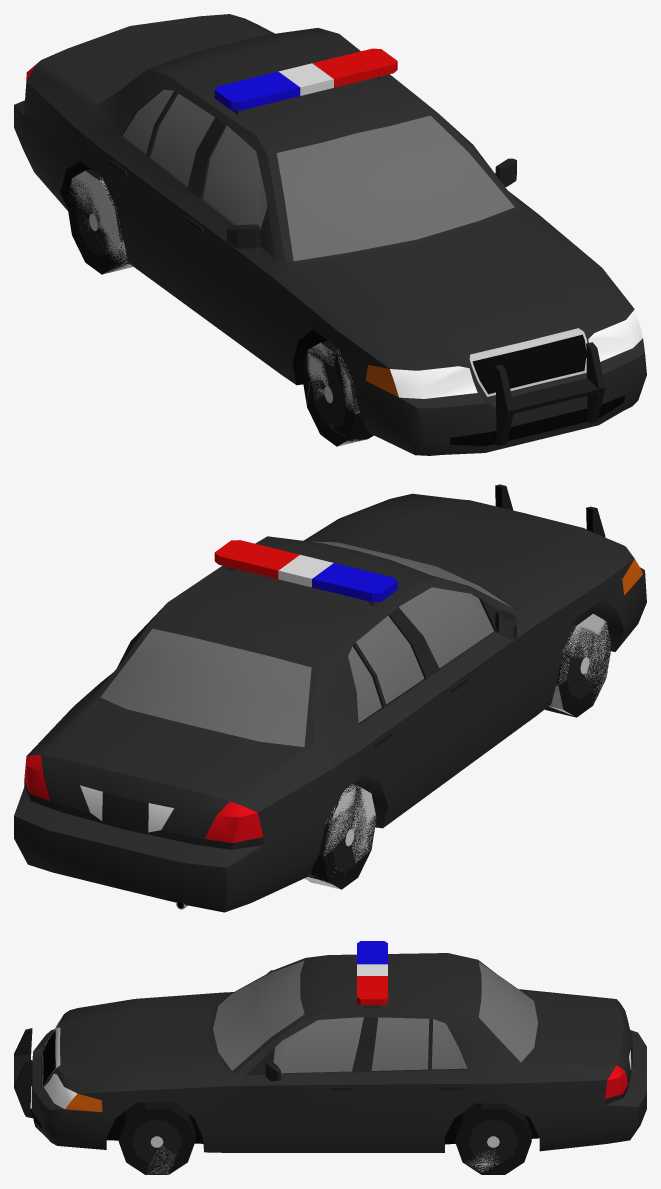
Rendered from police_car.fbx.
The picture shows the model from 3 angles, top to bottom: view 1: azimuth 30°, elevation 25°; view 2: azimuth 150°, elevation 25°; view 3: azimuth 270°, elevation 25°; orthographic projection. The views are drawn at different scales.
Parts seen in each view (by area): view 1: Cube.001, Cylinder.000, Cylinder.001, Cylinder.005, Cylinder.004; view 2: Cube.001, Cylinder.001, Cylinder.000, Cylinder.005, Cylinder.004; view 3: Cube.001, Cylinder.002, Cylinder.003.
Part boxes in pixels (left/top/right/bottom): Cube.001: left=14, top=14, right=646, bottom=455; Cylinder.000: left=302, top=341, right=373, bottom=446; Cylinder.001: left=67, top=169, right=129, bottom=274; Cylinder.005: left=70, top=170, right=133, bottom=274; Cylinder.004: left=306, top=342, right=366, bottom=446; Cube.001: left=14, top=484, right=646, bottom=912; Cylinder.001: left=308, top=784, right=376, bottom=889; Cylinder.000: left=545, top=611, right=611, bottom=717; Cylinder.005: left=304, top=784, right=376, bottom=889; Cylinder.004: left=549, top=613, right=610, bottom=715; Cube.001: left=14, top=941, right=646, bottom=1152; Cylinder.002: left=118, top=1102, right=195, bottom=1174; Cylinder.003: left=455, top=1103, right=531, bottom=1174.
Size of what is drawn, in the model's own units: 254 by 188 by 673.
